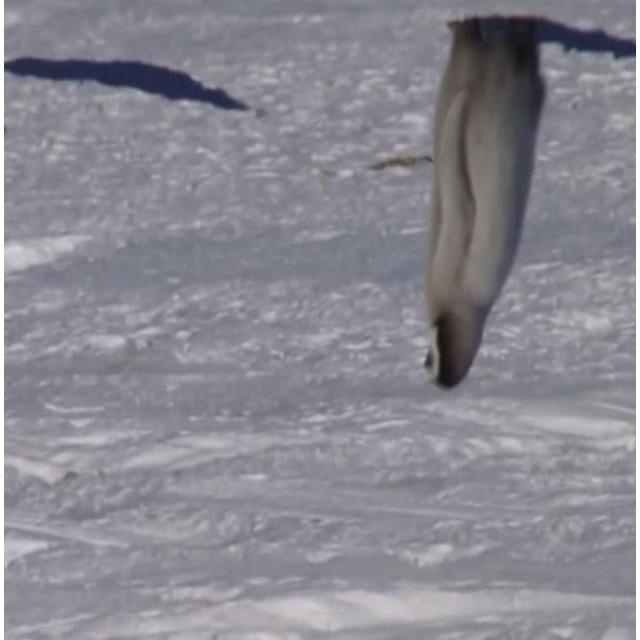penguin: (420, 14, 544, 390)
